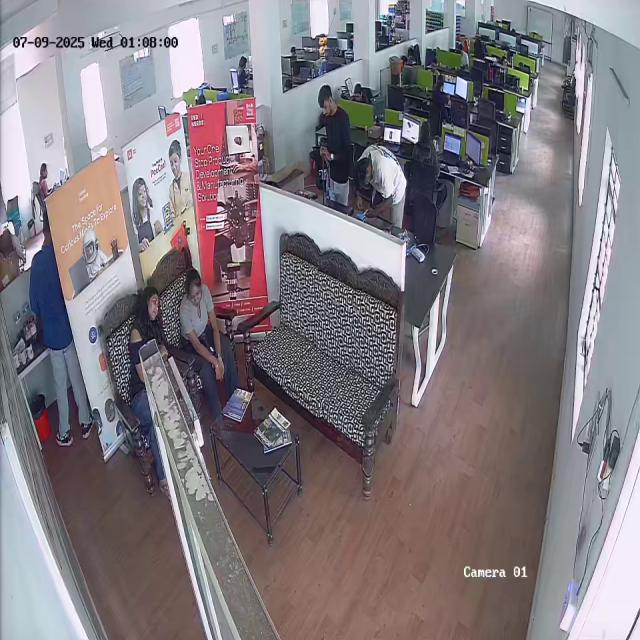person: (16, 206, 93, 449), (97, 284, 166, 422), (175, 269, 237, 410), (309, 84, 353, 206), (355, 142, 406, 228), (32, 162, 56, 198)
